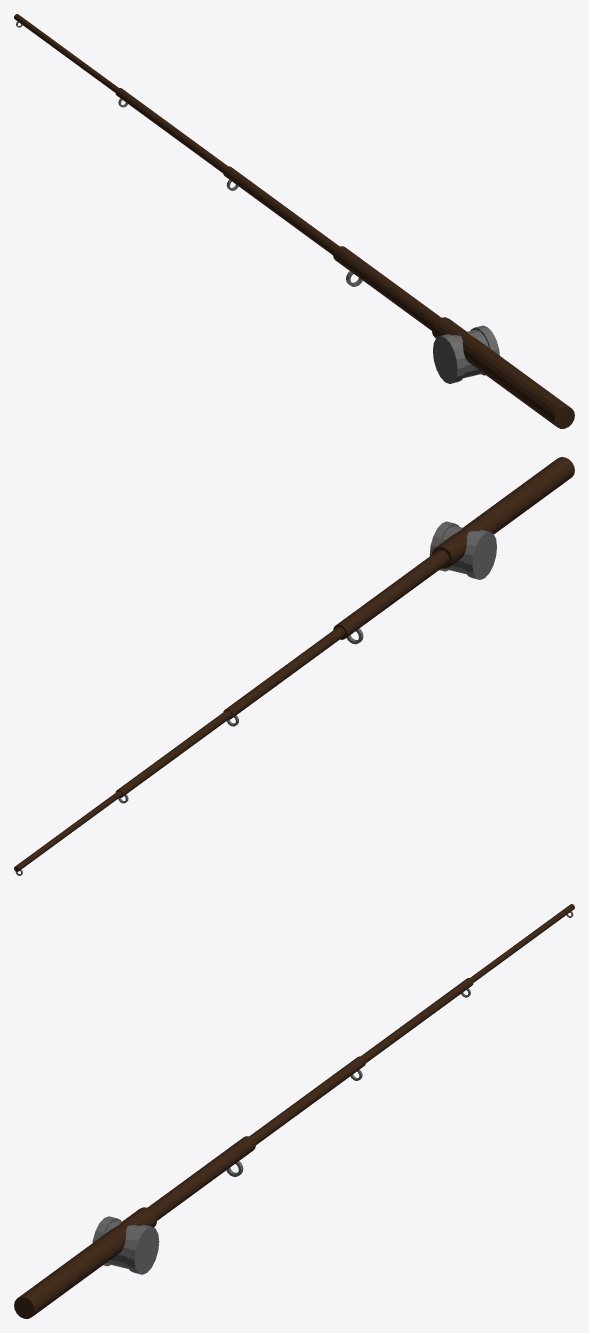
The model's file is FishingRod.glb.
3 renders of one model, top to bottom at view 1: azimuth 30°, elevation 25°; view 2: azimuth 150°, elevation 25°; view 3: azimuth 330°, elevation 25°, orthographic.
Parts seen in each view (by area): view 1: Cylinder, Cylinder.001; view 2: Cylinder, Cylinder.001; view 3: Cylinder, Cylinder.001.
Boxes of the visible parts, left/top/right/bottom form: Cylinder: left=14, top=14, right=574, bottom=428; Cylinder.001: left=433, top=325, right=499, bottom=383; Cylinder: left=14, top=457, right=574, bottom=871; Cylinder.001: left=429, top=521, right=496, bottom=579; Cylinder: left=14, top=904, right=574, bottom=1318; Cylinder.001: left=92, top=1216, right=159, bottom=1274.
Bounding box in the file's own units: 0.2068 × 0.2068 × 4.6.
